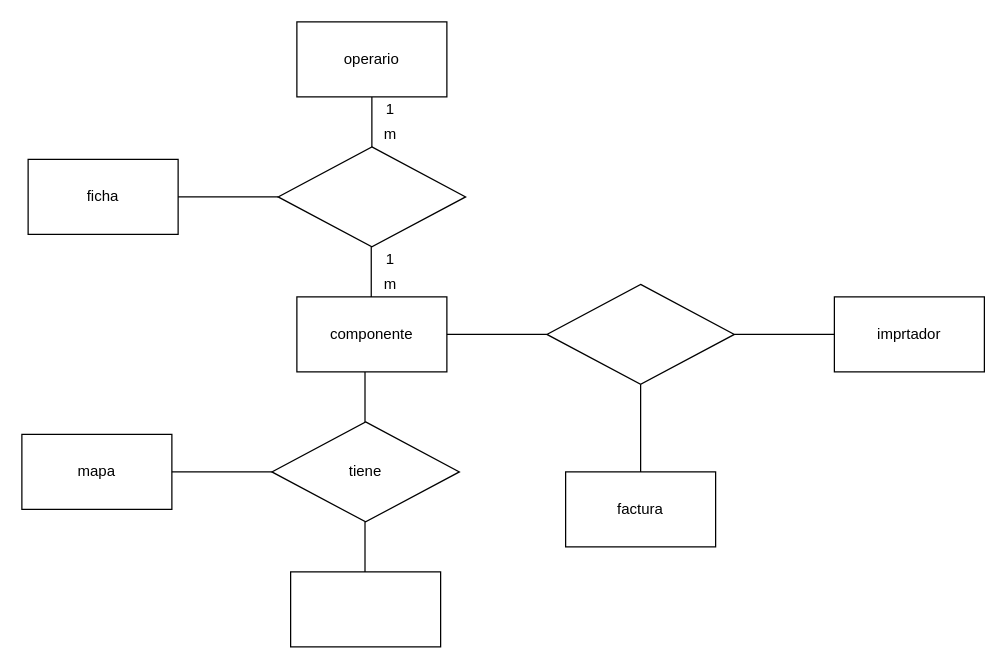
The diagram is 1006 pixels wide and 669 high, and some of its shapes have lost their labels. Each missing label, with the centre of its shape:
"comprado" belongs at point (640, 333).
"fabrica" belongs at point (371, 196).
"televisor" belongs at point (365, 609).
